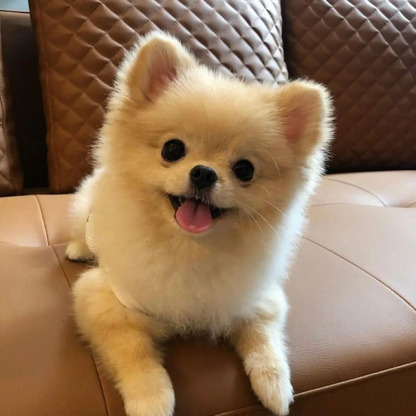Pomeranian: (80, 23, 354, 406)
